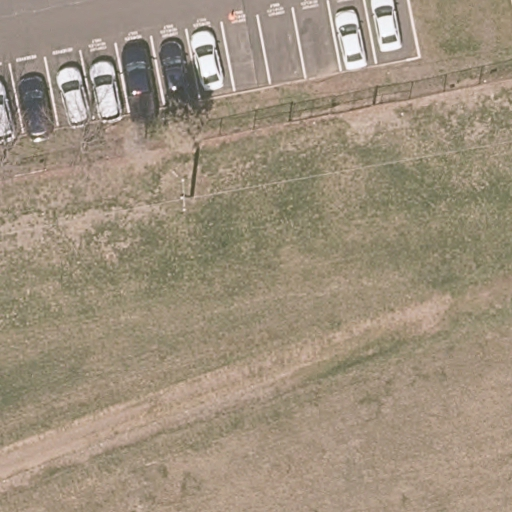DT: (180, 176, 188, 212)
